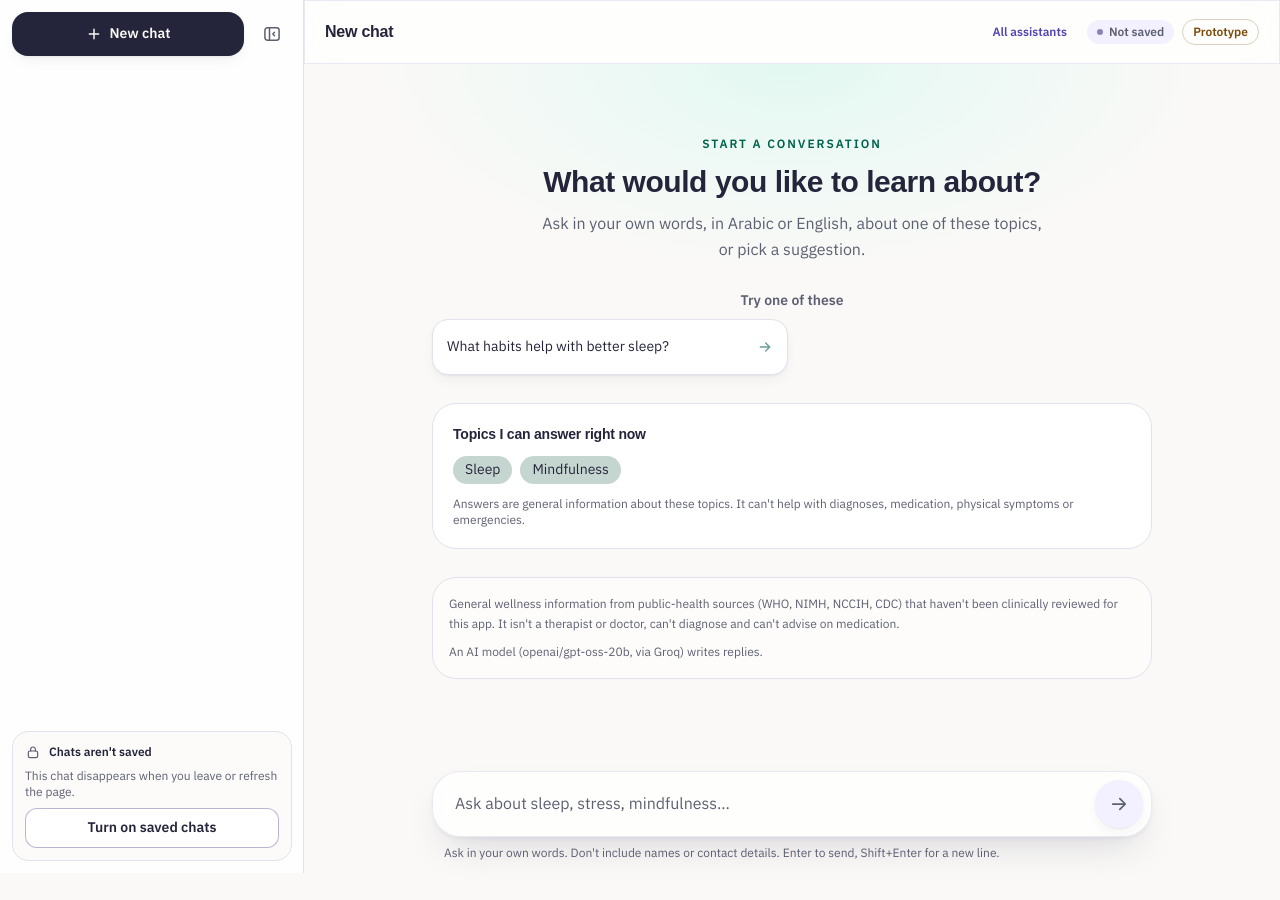
Test: chat workspace › explains refusals in plain language and keeps refused turns out of the context
This screenshot has width=1280, height=900.
Type "My boss shouts at me" into the text box named "Ask a general question" at (764, 804), box [441, 780, 1087, 828]
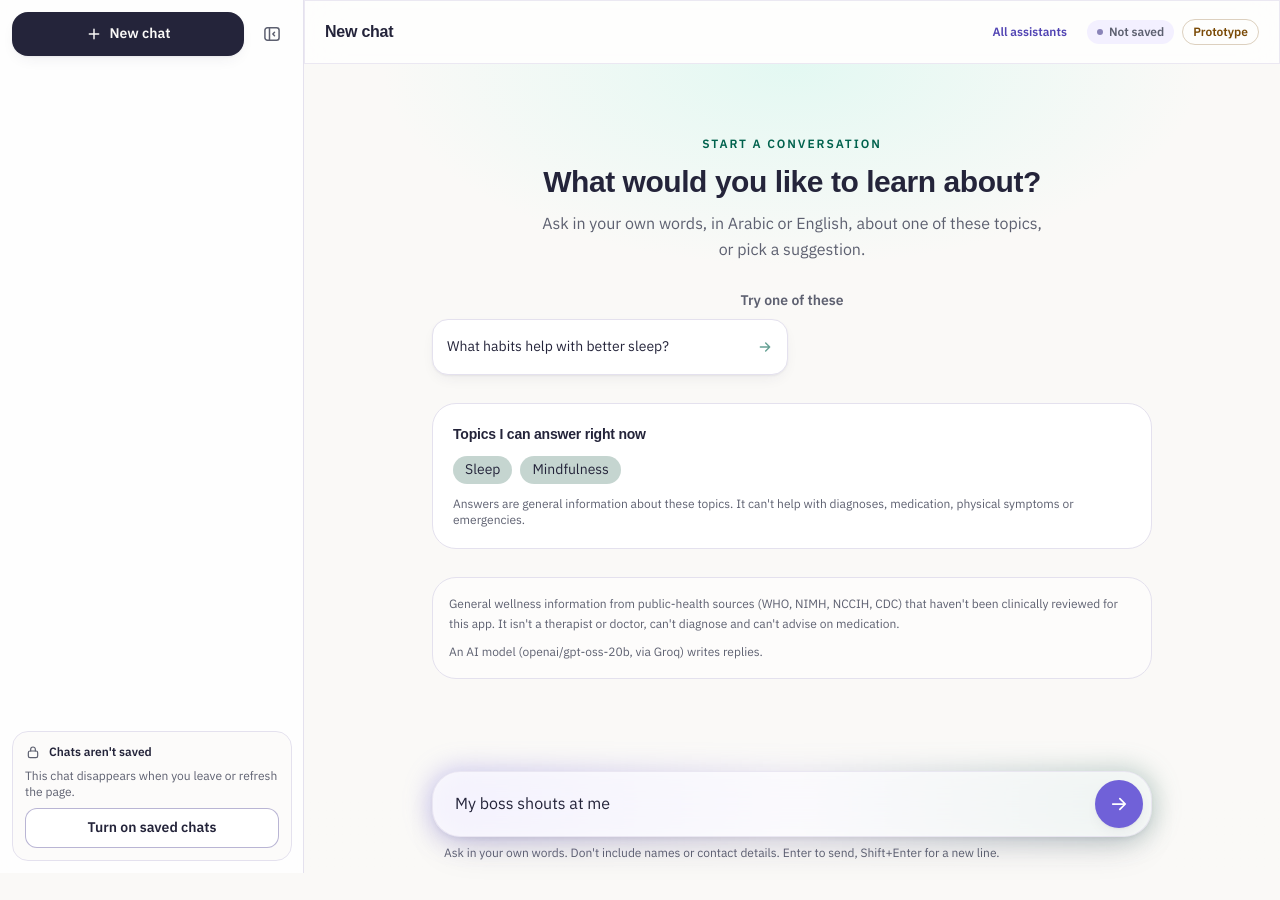
Click the button named "Send" at (1119, 804), box [1095, 780, 1143, 828]
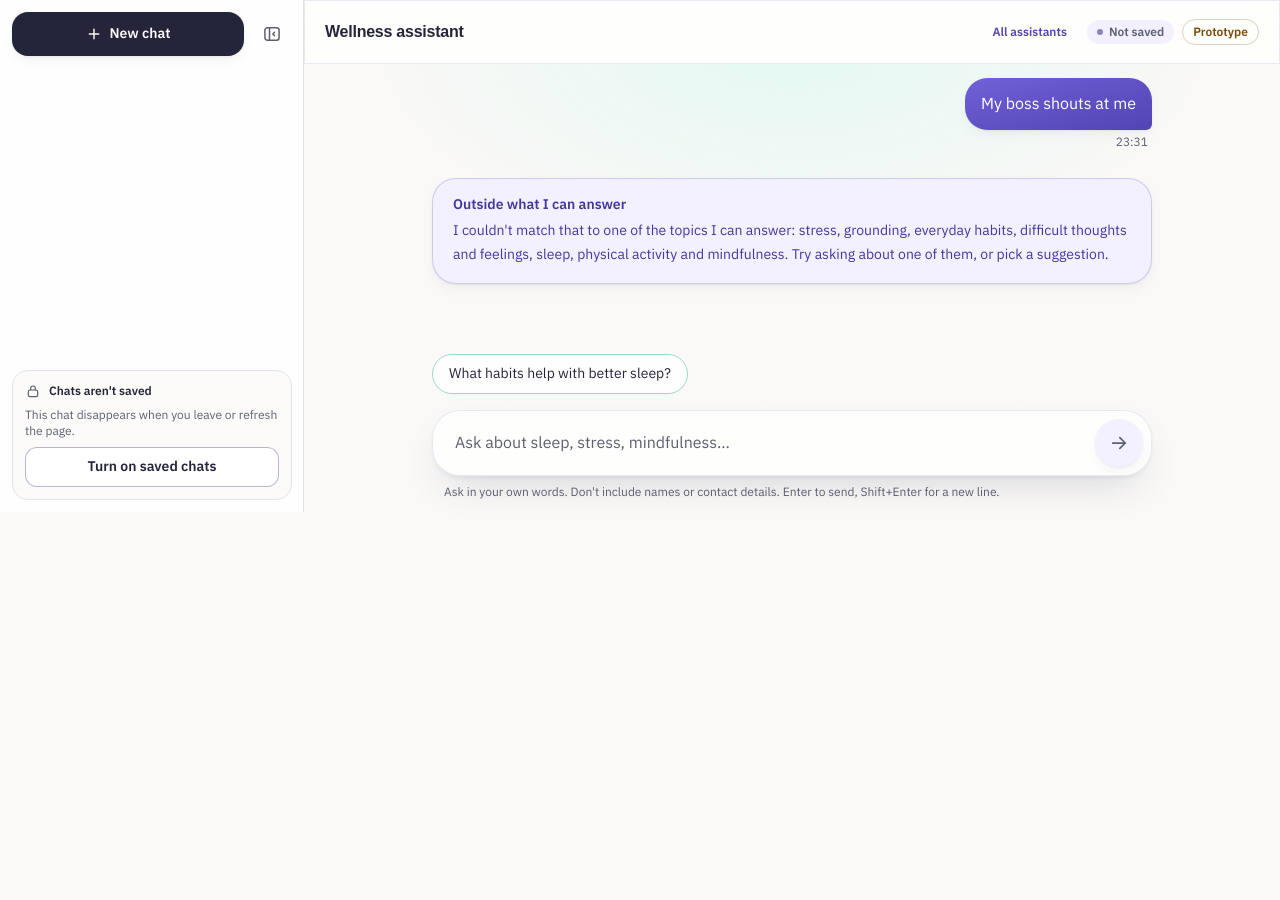
Result: the element that starts with "Outside what I can answer" shows "couldn't match that to one of the topics" at [453, 220, 1127, 265]
Type "What is mindfulness?" into the text box named "Ask a general question" at (764, 443), box [441, 419, 1087, 467]
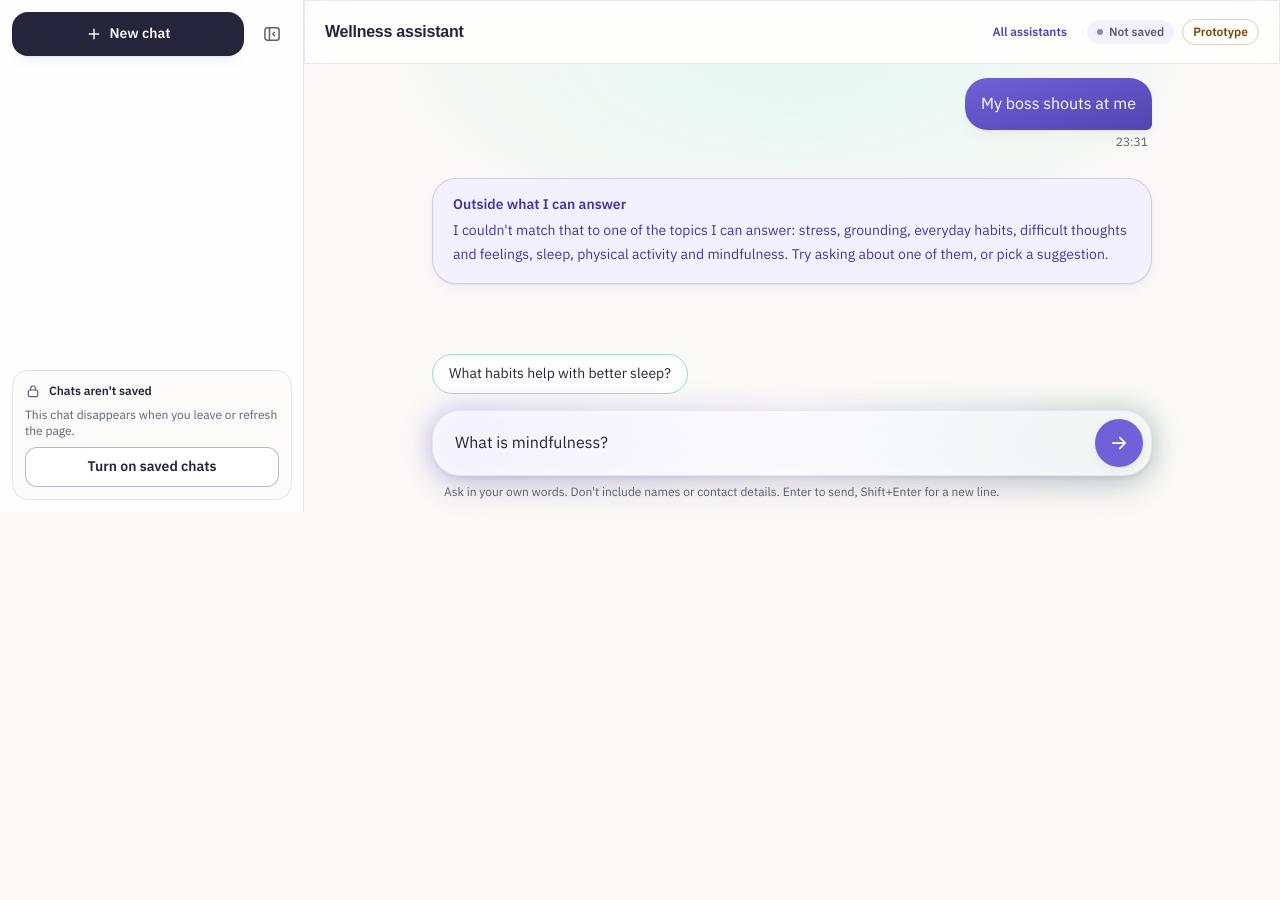
Click the button named "Send" at (1119, 443), box [1095, 419, 1143, 467]
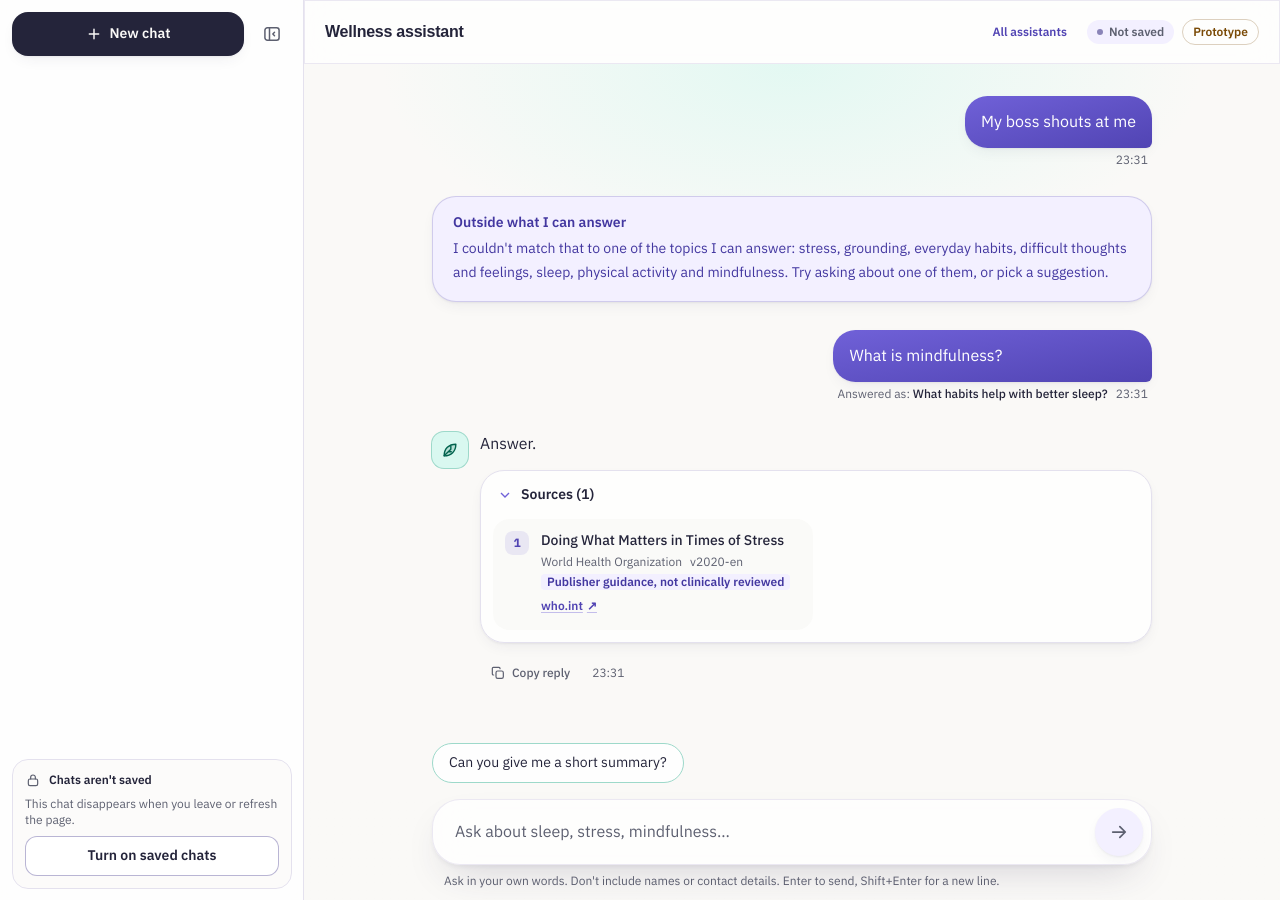
Result: the text "Answer." is shown at [480, 432, 536, 456]
Type "tell me more" into the text box named "Ask a general question" at (764, 832), box [441, 808, 1087, 856]
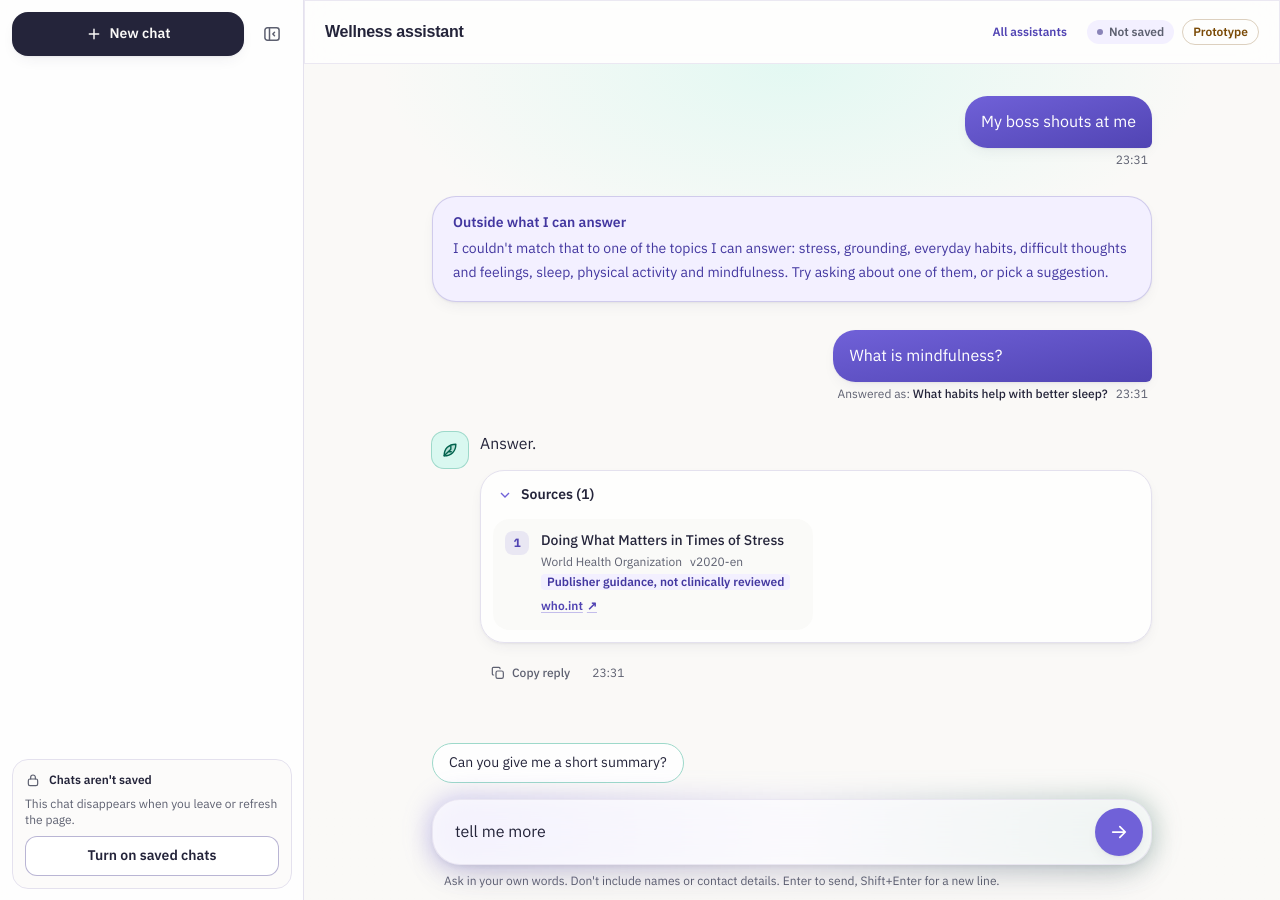
Click the button named "Send" at (1119, 832), box [1095, 808, 1143, 856]
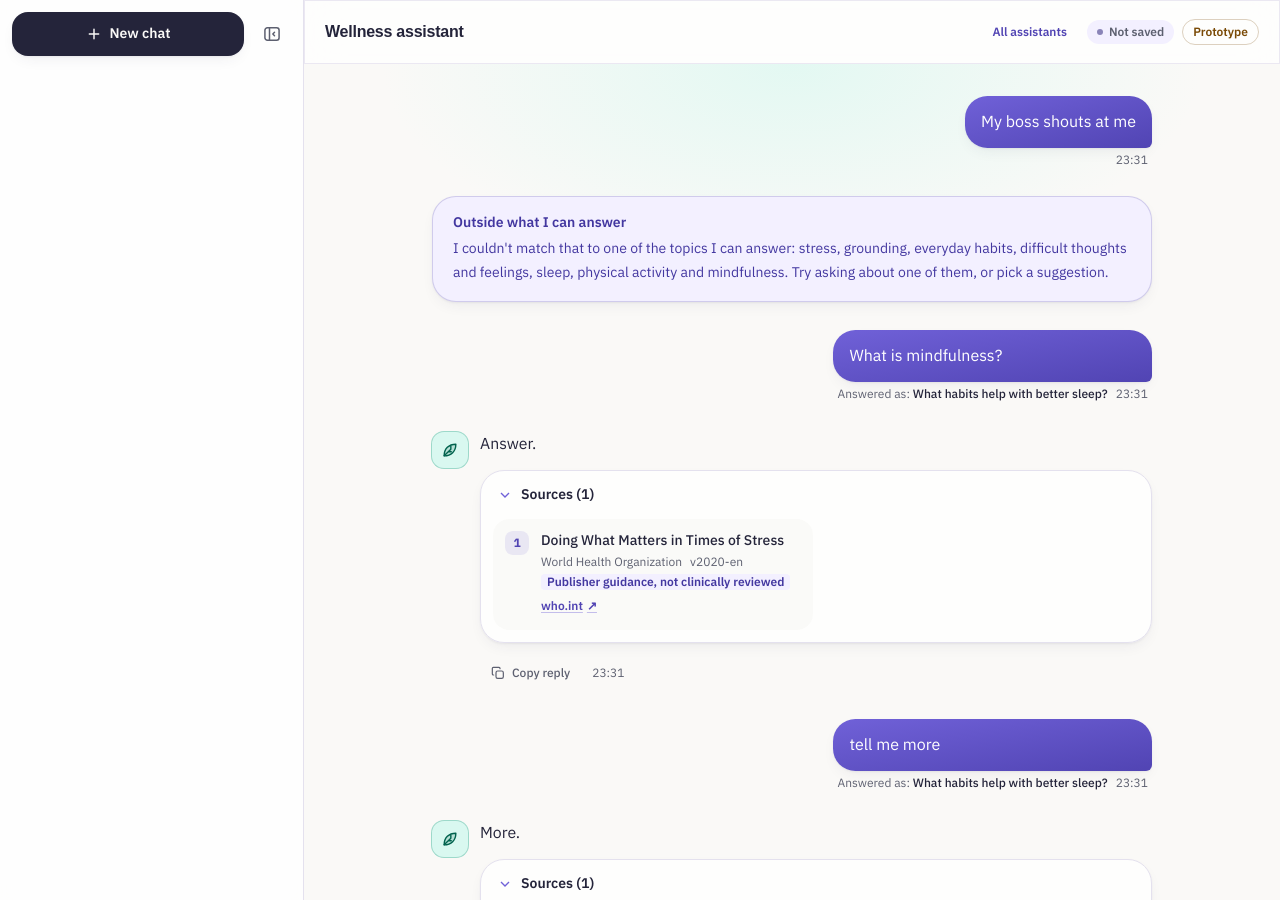
Result: the text "More." is shown at [480, 821, 520, 845]
